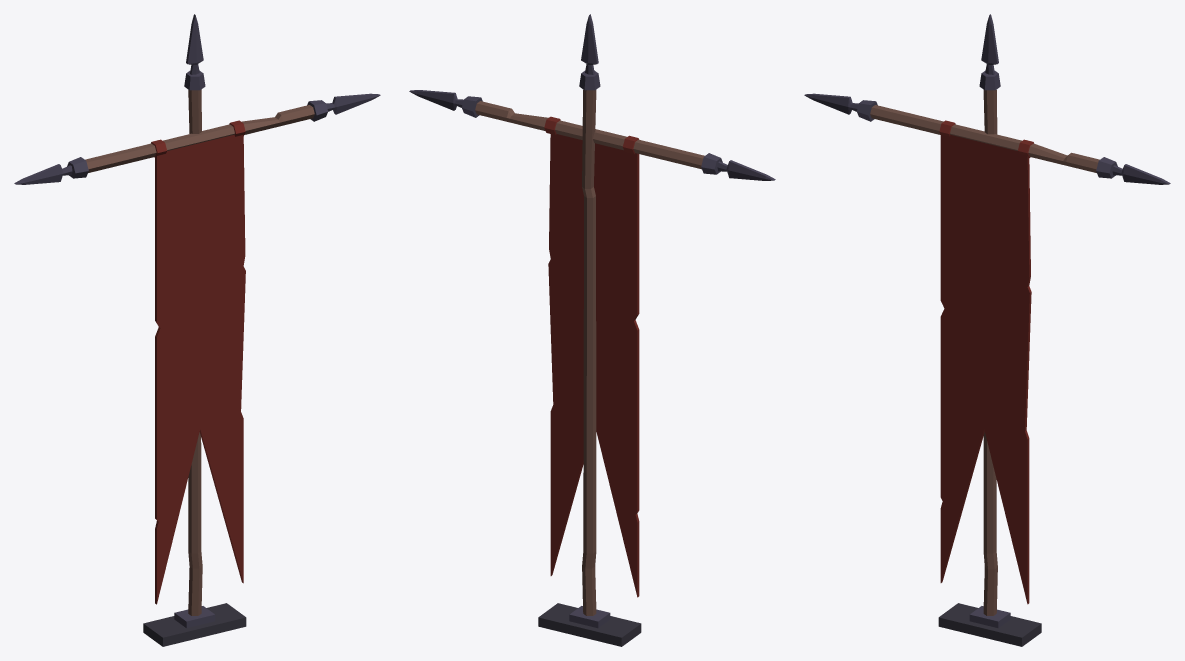
Rendered from Banner.glb.
3 renders of one model, left to right at view 1: azimuth 30°, elevation 25°; view 2: azimuth 150°, elevation 25°; view 3: azimuth 330°, elevation 25°, orthographic.
Visible parts, largest first — view 1: Banner; view 2: Banner; view 3: Banner.
Boxes of the visible parts, x1,y1,x2,y2 form: Banner: [14, 14, 380, 646]; Banner: [409, 14, 775, 646]; Banner: [804, 14, 1170, 646].
Size of the model in its own units: 2.36 by 3.8 by 0.2193.
